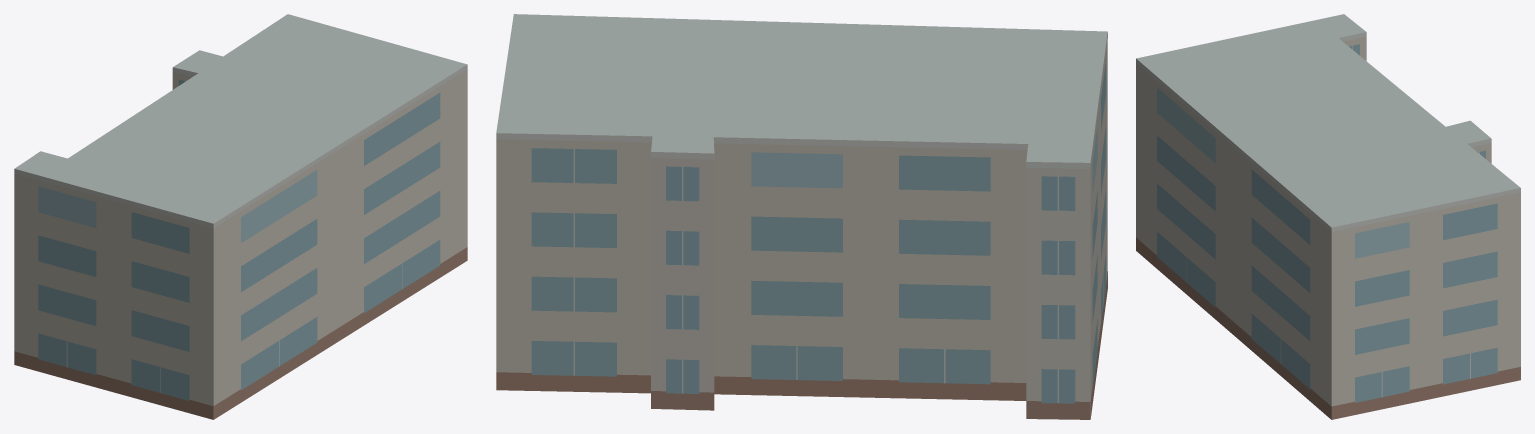
Rendered from survey-upis-32986029.glb.
3 renders of one model, left to right at view 1: azimuth 30°, elevation 25°; view 2: azimuth 150°, elevation 25°; view 3: azimuth 270°, elevation 25°, orthographic. The views are drawn at different scales.
Parts seen in each view (by area): view 1: survey-upis-32986029.tmp; view 2: survey-upis-32986029.tmp; view 3: survey-upis-32986029.tmp.
Boxes of the visible parts, x1,y1,x2,y2 form: survey-upis-32986029.tmp: (14, 14, 467, 419); survey-upis-32986029.tmp: (496, 14, 1107, 419); survey-upis-32986029.tmp: (1136, 14, 1520, 419).
Bounding box in the file's own units: 24.79 × 10.4 × 18.87.
